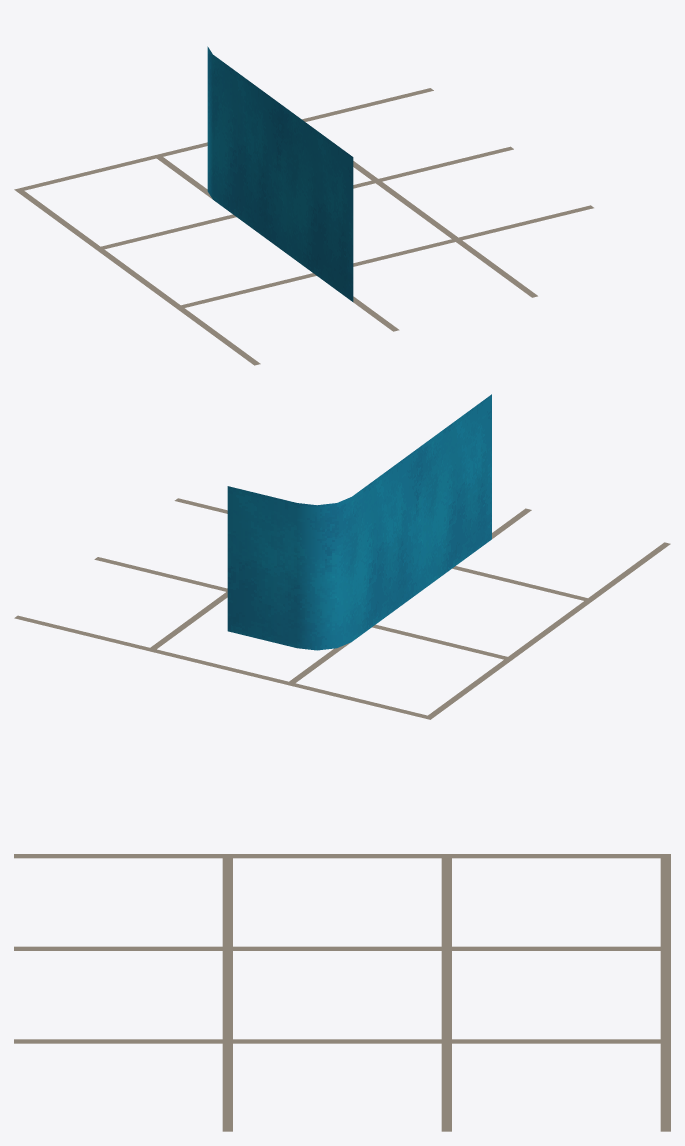
The model's file is Water_Waterfall_Mid_Left_1x1.glb.
3 views of the same model, one above another, from view 1: azimuth 30°, elevation 25°; view 2: azimuth 150°, elevation 25°; view 3: azimuth 270°, elevation 25° (orthographic). The views are drawn at different scales.
Parts seen in each view (by area): view 1: Water_Waterfall_Mid_Left_1x1, Floor; view 2: Water_Waterfall_Mid_Left_1x1, Floor; view 3: Floor.
Boxes of the visible parts, x1=… form: Water_Waterfall_Mid_Left_1x1: x1=207, y1=46, x2=353, y2=301; Floor: x1=14, y1=88, x2=593, y2=365; Water_Waterfall_Mid_Left_1x1: x1=227, y1=394, x2=491, y2=650; Floor: x1=14, y1=498, x2=670, y2=719; Floor: x1=14, y1=854, x2=670, y2=1131.
Size of the model in its own units: 300 by 100 by 300.
2 materials, 2 textured.
